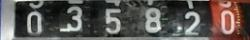digits: (58, 6, 82, 30), (144, 7, 162, 32), (104, 8, 121, 33), (26, 10, 43, 34), (183, 11, 200, 34), (220, 10, 234, 34)
